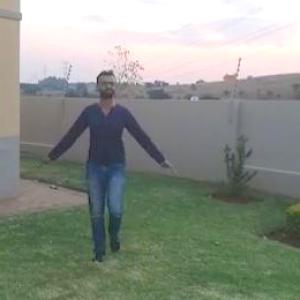land: (60, 82, 162, 226)
